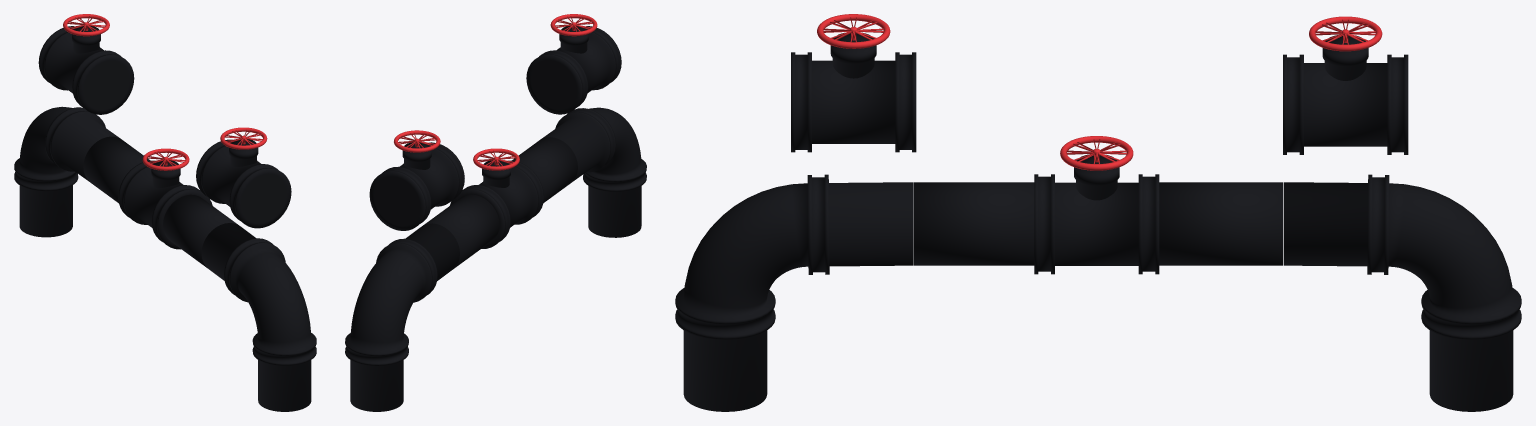
The model's file is pipeline2.glb.
3 renders of one model, left to right at view 1: azimuth 30°, elevation 25°; view 2: azimuth 150°, elevation 25°; view 3: azimuth 270°, elevation 25°, orthographic. The views are drawn at different scales.
Parts seen in each view (by area): view 1: tube_turn.001, tube_turn.002, tube_wheel.001, tube_wheel, tube_wheel2, tube2, tube2.001, tube_wheel.003, tube_wheel2.001, tube_wheel.002; view 2: tube_turn.002, tube_turn.001, tube_wheel, tube_wheel.001, tube_wheel2, tube2.001, tube2, tube_wheel2.001, tube_wheel.002, tube_wheel.003; view 3: tube_turn.001, tube_turn.002, tube_wheel, tube_wheel.001, tube_wheel2, tube2.001, tube2, tube_wheel.002, tube_wheel2.001, tube_wheel.003.
Part boxes in pixels (x1,y1,x2,y2): tube_turn.001: [201, 223, 316, 411]; tube_turn.002: [14, 106, 121, 237]; tube_wheel.001: [196, 139, 291, 228]; tube_wheel: [38, 26, 134, 114]; tube_wheel2: [118, 160, 212, 249]; tube2: [163, 194, 237, 268]; tube2.001: [83, 136, 150, 203]; tube_wheel.003: [220, 127, 267, 149]; tube_wheel2.001: [142, 148, 189, 170]; tube_wheel.002: [63, 14, 109, 36]; tube_turn.002: [345, 223, 459, 411]; tube_turn.001: [540, 107, 646, 237]; tube_wheel: [369, 142, 464, 230]; tube_wheel.001: [526, 26, 621, 114]; tube_wheel2: [450, 160, 543, 248]; tube2.001: [423, 194, 499, 268]; tube2: [512, 137, 577, 202]; tube_wheel2.001: [473, 148, 519, 170]; tube_wheel.002: [394, 130, 440, 152]; tube_wheel.003: [550, 14, 597, 36]; tube_turn.001: [675, 174, 913, 411]; tube_turn.002: [1283, 174, 1521, 411]; tube_wheel: [1283, 35, 1408, 154]; tube_wheel.001: [791, 32, 916, 152]; tube_wheel2: [1034, 154, 1159, 274]; tube2.001: [1159, 182, 1282, 265]; tube2: [913, 182, 1034, 265]; tube_wheel.002: [1309, 16, 1382, 51]; tube_wheel2.001: [1060, 136, 1133, 170]; tube_wheel.003: [817, 14, 890, 48].
Bounding box in the file's own units: 2.4 × 9.68 × 20.27.
